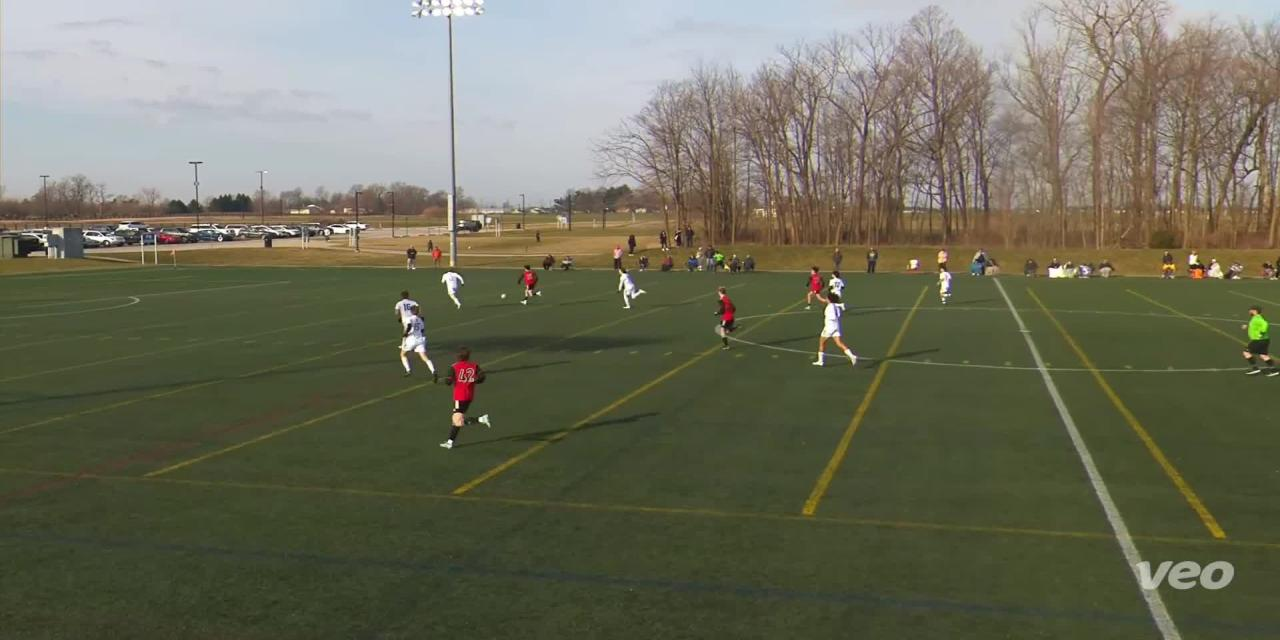sports ball: (498, 289, 510, 300)
